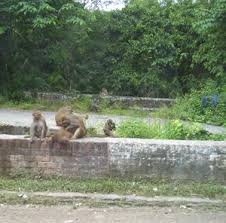monkey: (24, 82, 144, 161)
